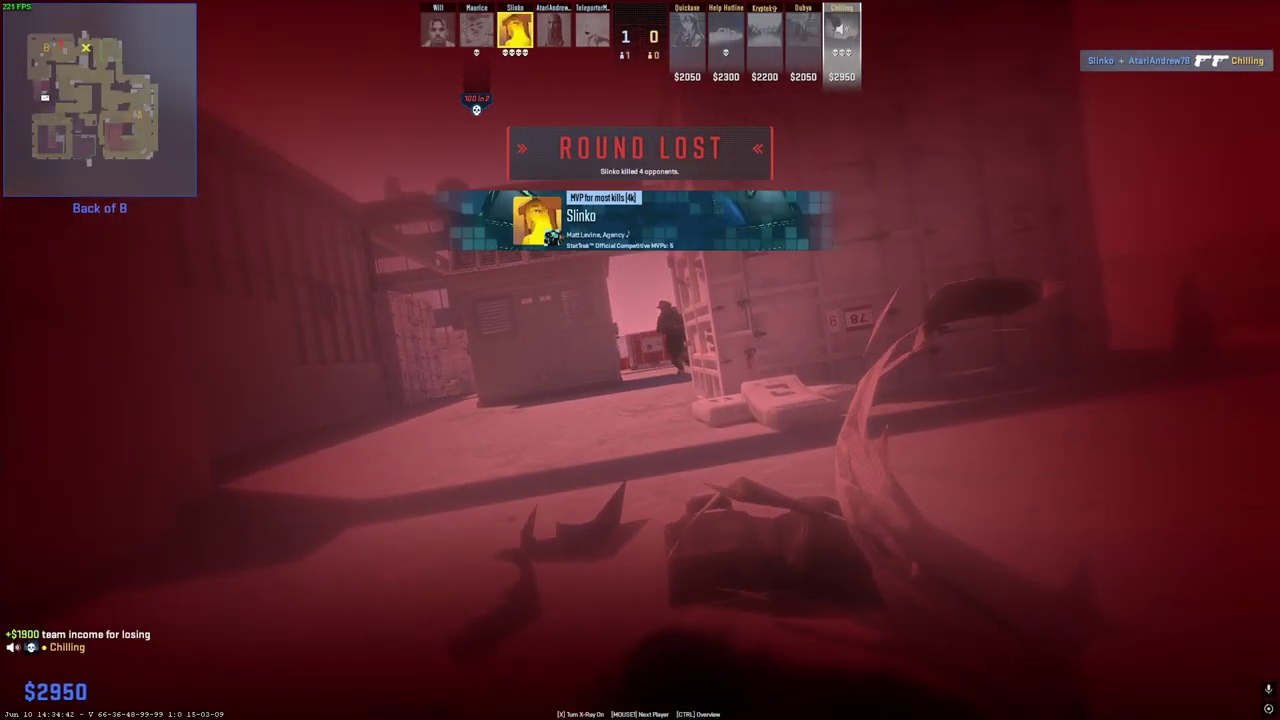CT: (656, 300, 690, 376)
